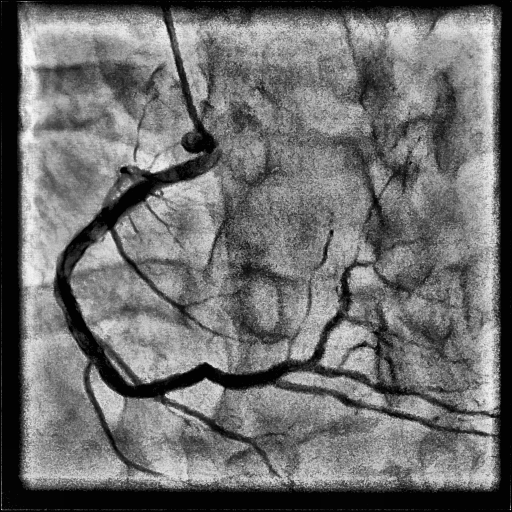pborca: (266, 292, 353, 377)
pda: (272, 377, 500, 436)
rca: (54, 148, 279, 398)
